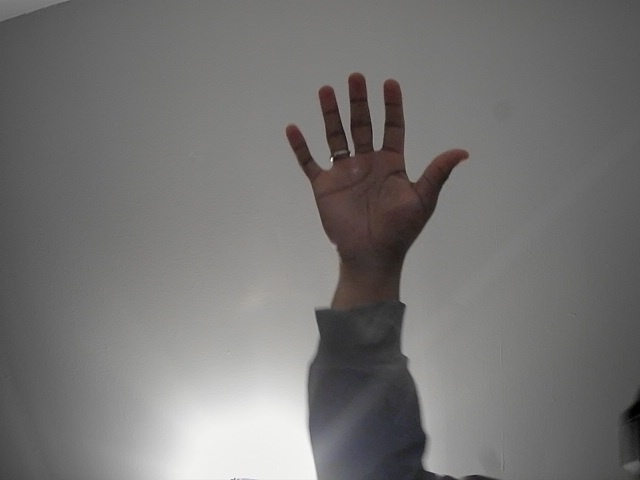Hello: (268, 62, 482, 285)
